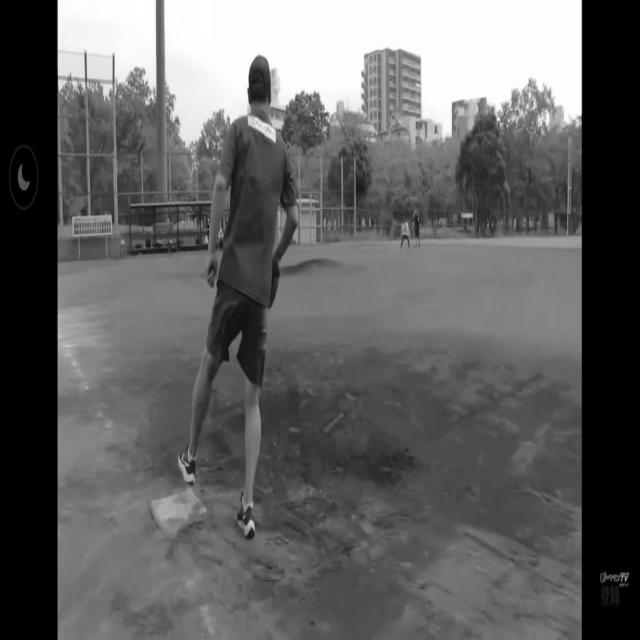base: (148, 492, 213, 542)
shoe: (236, 496, 258, 541), (179, 456, 197, 490)
